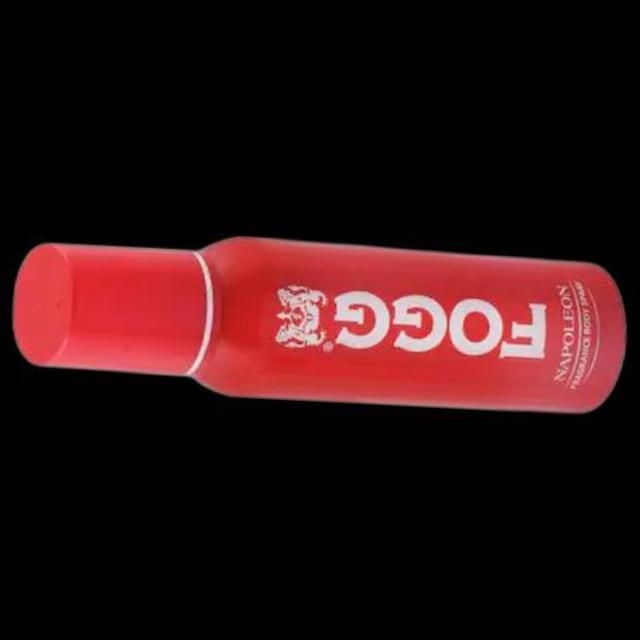Fogg Napoleon Fragrance Body Spray 150 ml: (5, 220, 631, 422)
